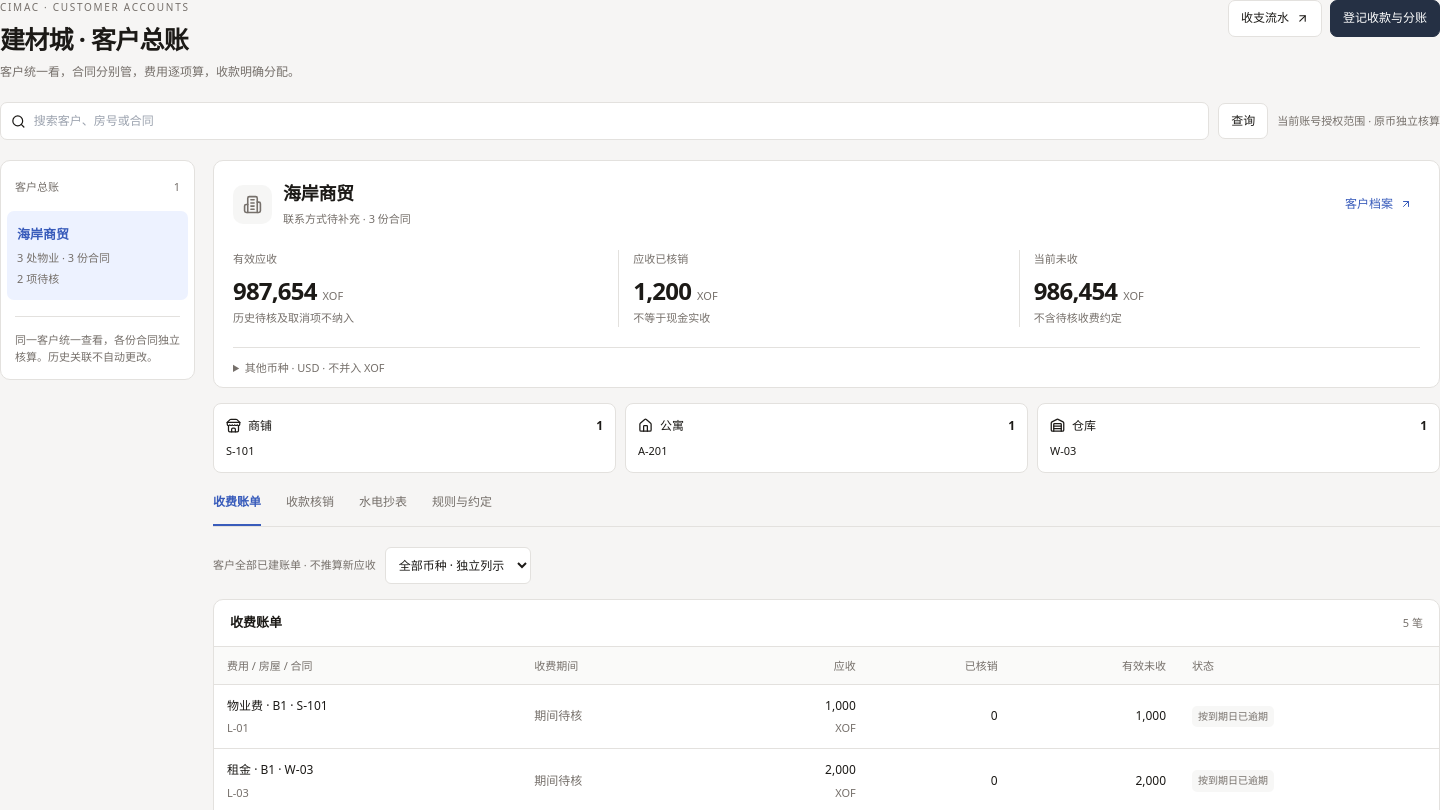
it: CIMAC customer-first finance workspace › records actual collector and recording account separately and preserves native collection links
Click the tab "收款核销": x=310, y=510 [286, 493, 334, 526]
(page scrolled)
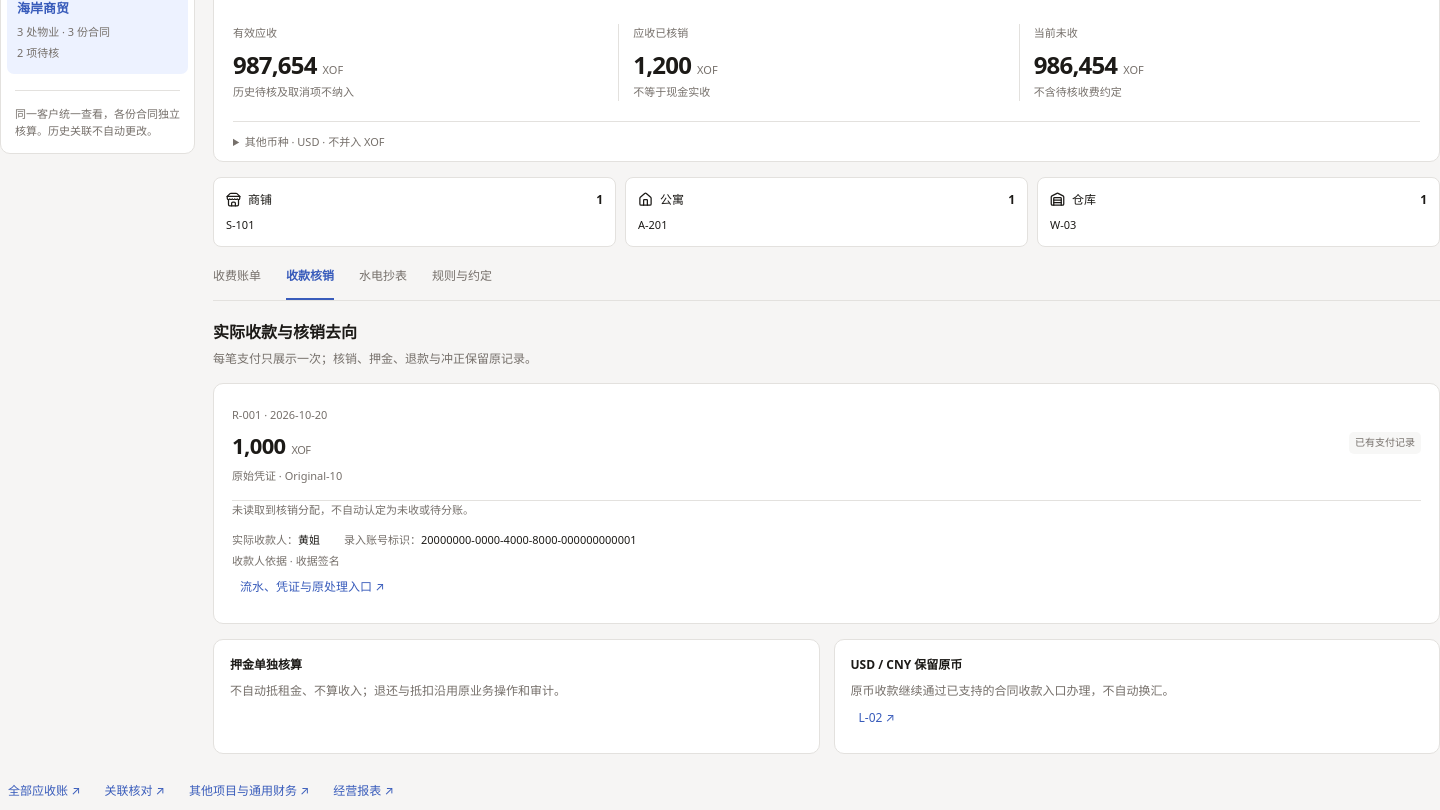
Check: the text "实际收款人：黄姐" is shown, box [232, 531, 320, 548]
Check: the text "Original-10" is shown, box [285, 468, 342, 482]
Check: the link "L-02 ↗" is shown, box [858, 709, 895, 726]
